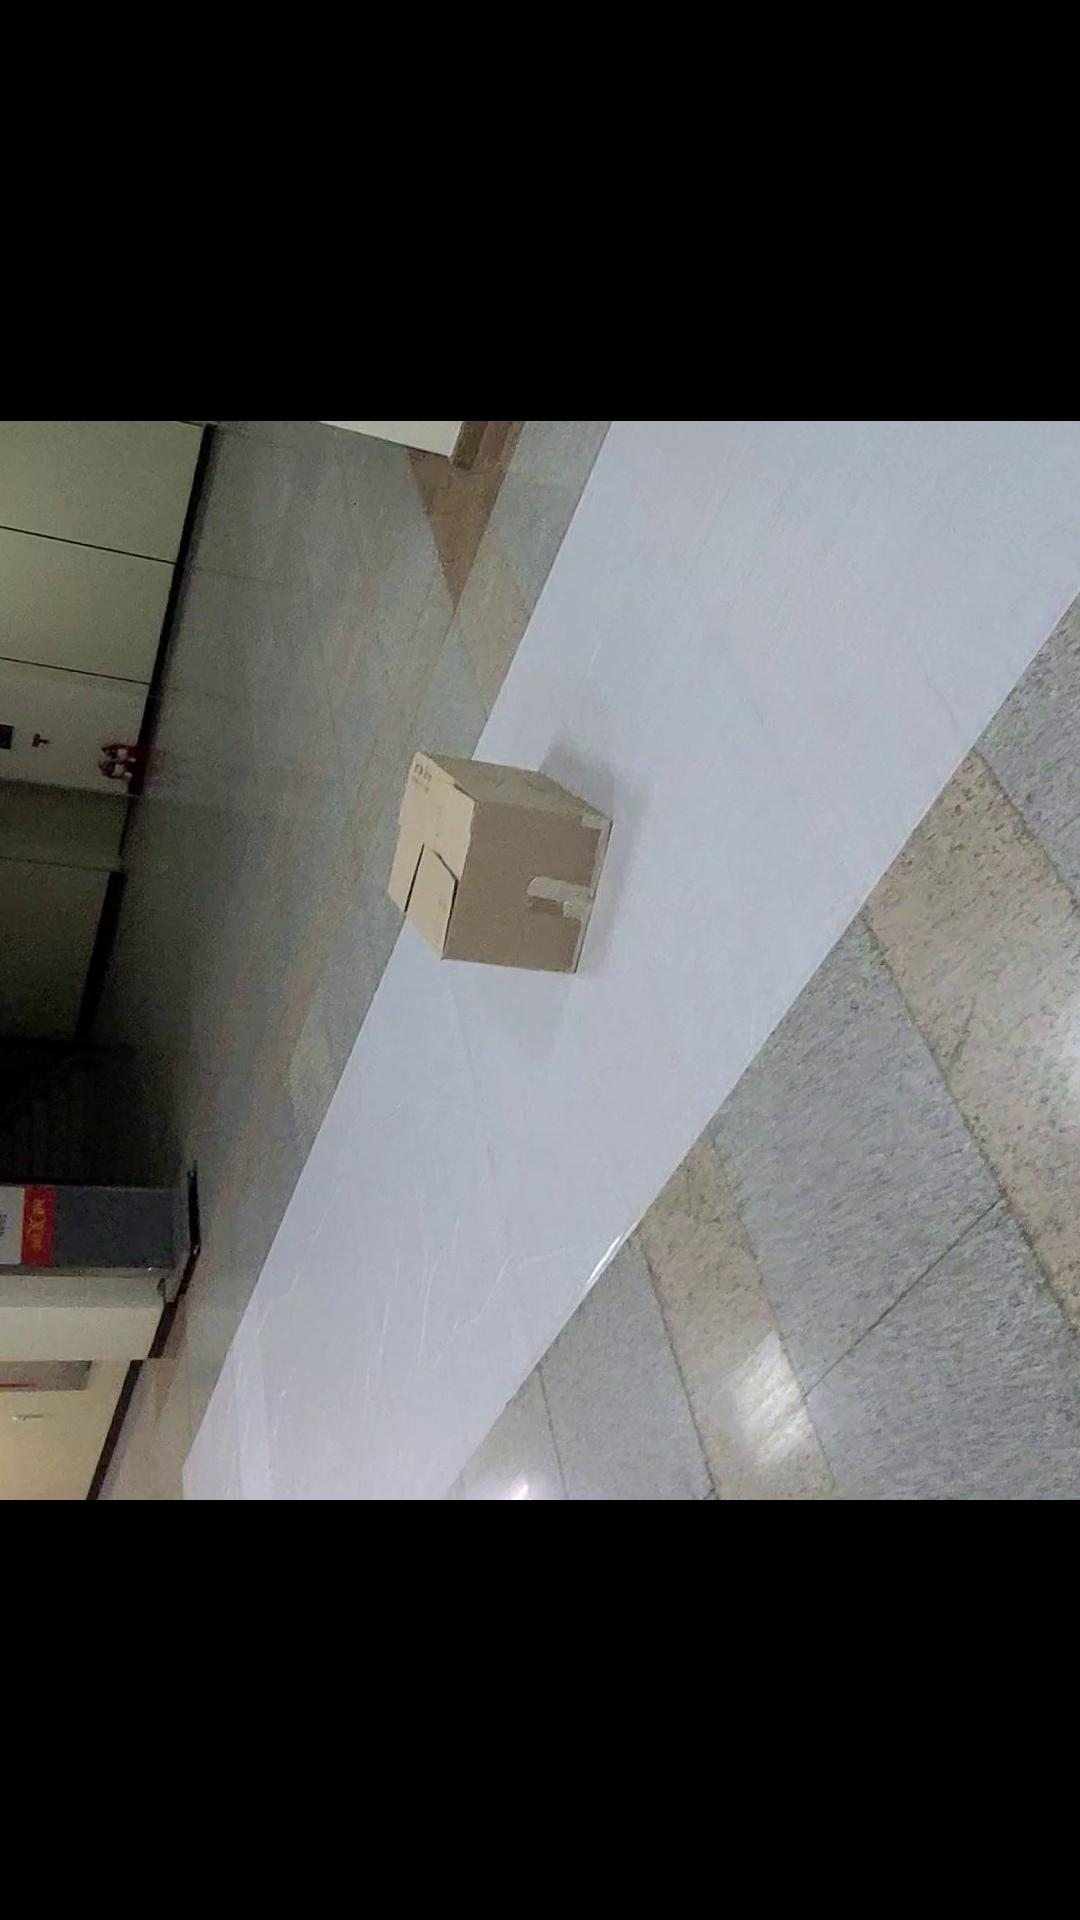Box: (363, 741, 630, 1002)
